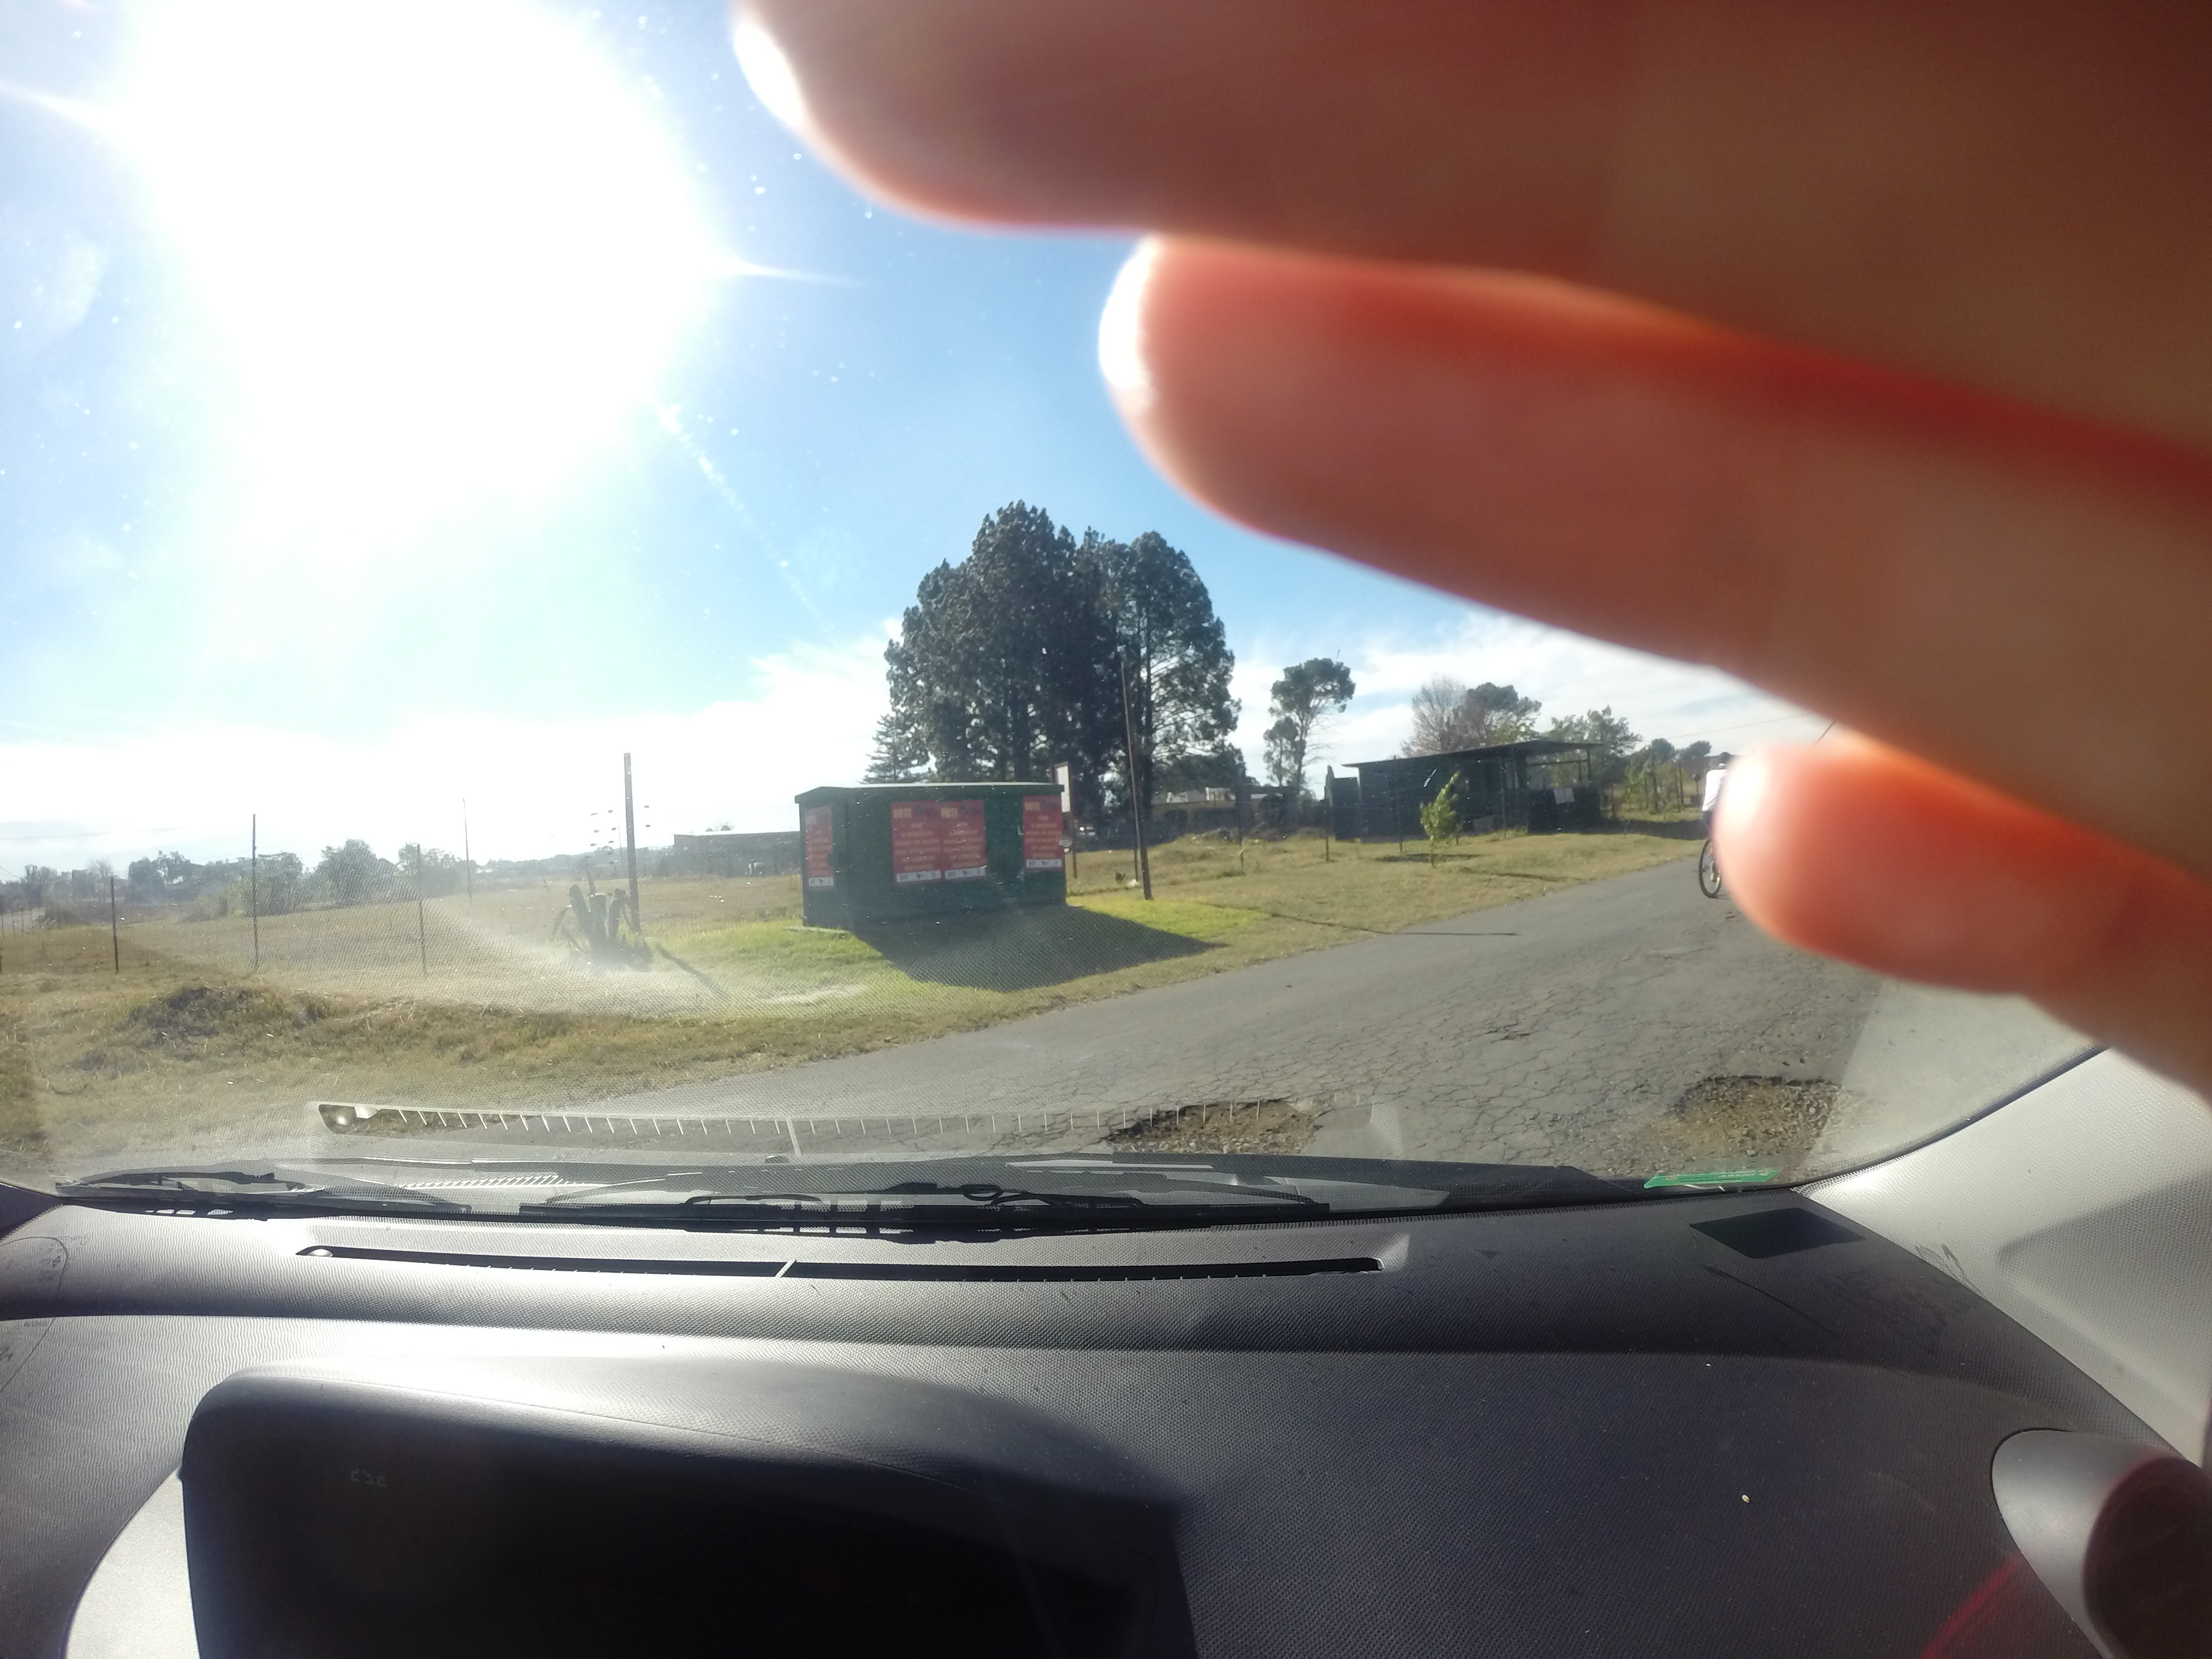pothole: (1627, 1025, 1921, 1173), (1090, 1051, 1400, 1155)
